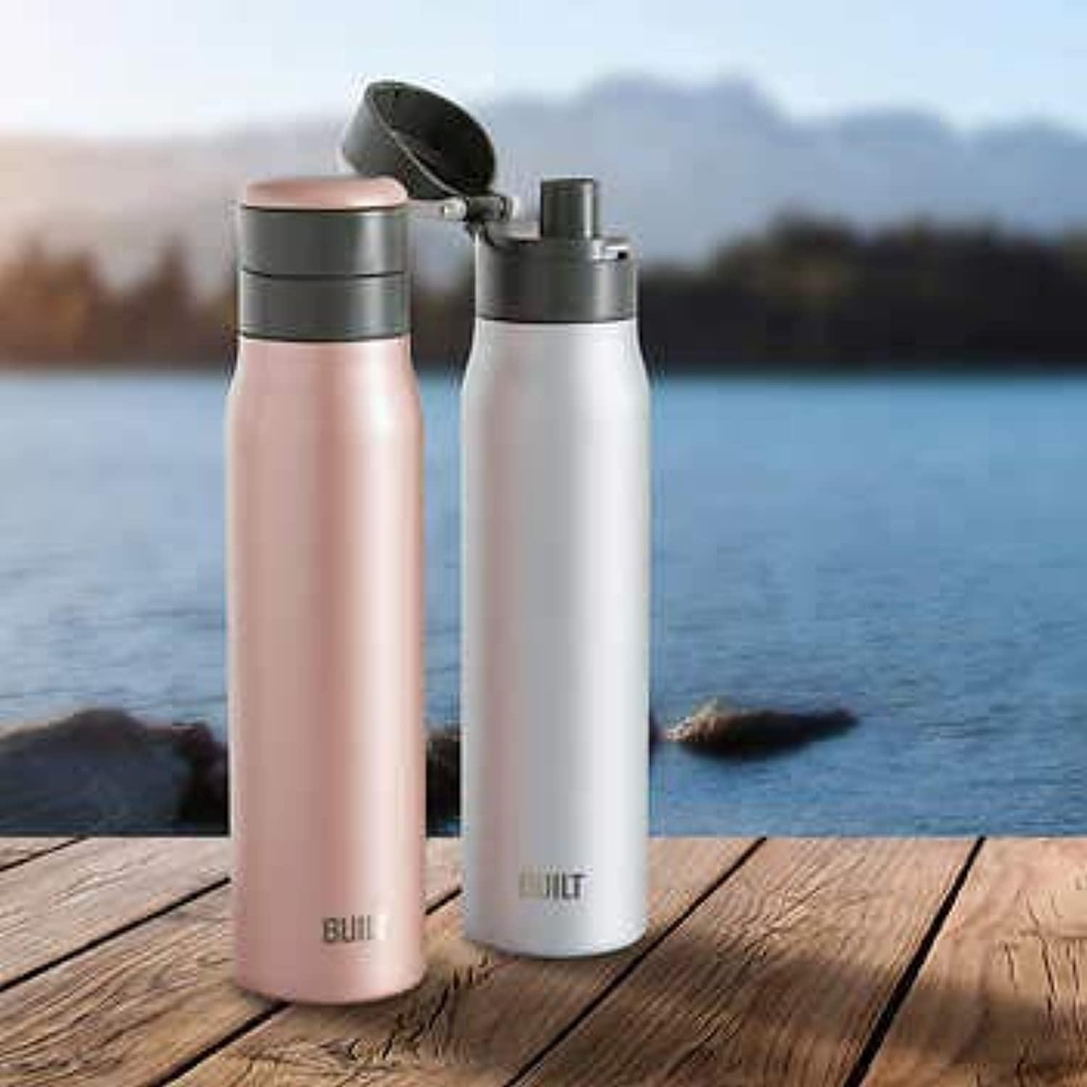gym bottle: (209, 162, 438, 1015), (447, 180, 663, 954)
